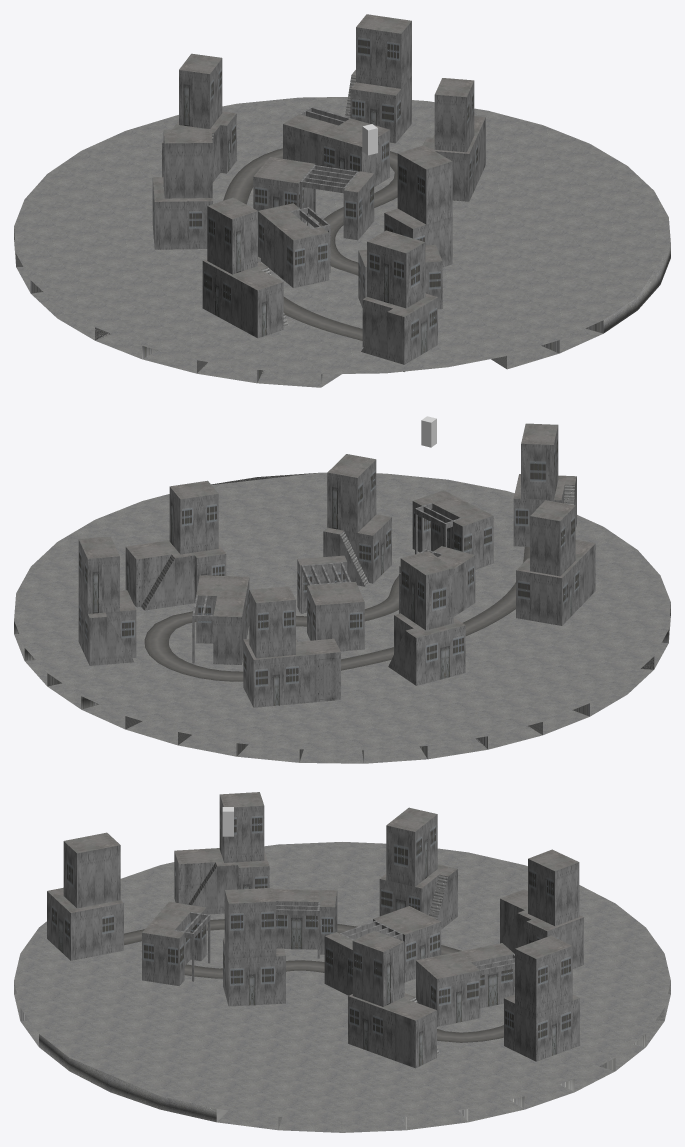
The model's file is dankomapa2.glb.
3 views of the same model, one above another, from view 1: azimuth 30°, elevation 25°; view 2: azimuth 150°, elevation 25°; view 3: azimuth 270°, elevation 25° (orthographic).
Parts seen in each view (by area): view 1: ground, Building_4.001, Building_6.002, Building_2, Building_4, Building_3, Building_2.001, Building_1, Building_5, Building_6.001, Building_6, Road (+1 smaller); view 2: ground, Building_6, Building_6.001, Building_4, Building_6.002, Building_2.001, Building_2, Building_3, Road, Building_4.001, Building_5.001, Building_1 (+1 smaller); view 3: ground, Building_6.001, Building_4.001, Building_2, Building_6.002, Building_2.001, Building_4, Building_6, Building_1, Building_3, Building_5.001, Building_5 (+1 smaller).
Boxes of the visible parts, <box> form: ground: <box>14,97,670,387</box>; Building_4.001: <box>361,230,437,371</box>; Building_6.002: <box>202,197,288,338</box>; Building_2: <box>345,14,411,143</box>; Building_4: <box>152,129,212,249</box>; Building_3: <box>253,157,374,240</box>; Building_2.001: <box>384,145,452,267</box>; Building_1: <box>283,107,389,186</box>; Building_5: <box>258,203,330,288</box>; Building_6.001: <box>423,78,485,201</box>; Building_6: <box>162,53,236,182</box>; Road: <box>223,148,397,340</box>; ground: <box>14,472,670,763</box>; Building_6: <box>243,586,340,707</box>; Building_6.001: <box>125,480,226,610</box>; Building_4: <box>388,551,465,685</box>; Building_6.002: <box>516,500,595,625</box>; Building_2.001: <box>323,454,391,586</box>; Building_2: <box>78,536,136,665</box>; Building_3: <box>297,555,364,651</box>; Road: <box>144,546,529,681</box>; Building_4.001: <box>513,423,576,546</box>; Building_5.001: <box>412,490,493,569</box>; Building_1: <box>192,575,249,664</box>; ground: <box>14,842,670,1132</box>; Building_6.001: <box>348,930,439,1068</box>; Building_4.001: <box>47,832,123,960</box>; Building_2: <box>504,935,579,1061</box>; Building_6.002: <box>174,792,269,914</box>; Building_2.001: <box>223,887,285,1006</box>; Building_4: <box>379,807,457,929</box>; Building_6: <box>500,849,583,968</box>; Building_1: <box>416,943,514,1026</box>; Building_3: <box>324,906,441,995</box>; Building_5.001: <box>142,901,210,986</box>; Building_5: <box>273,889,337,958</box>.
Size of the model in its own units: 115 by 33.05 by 115.
3 materials, 3 textured.
